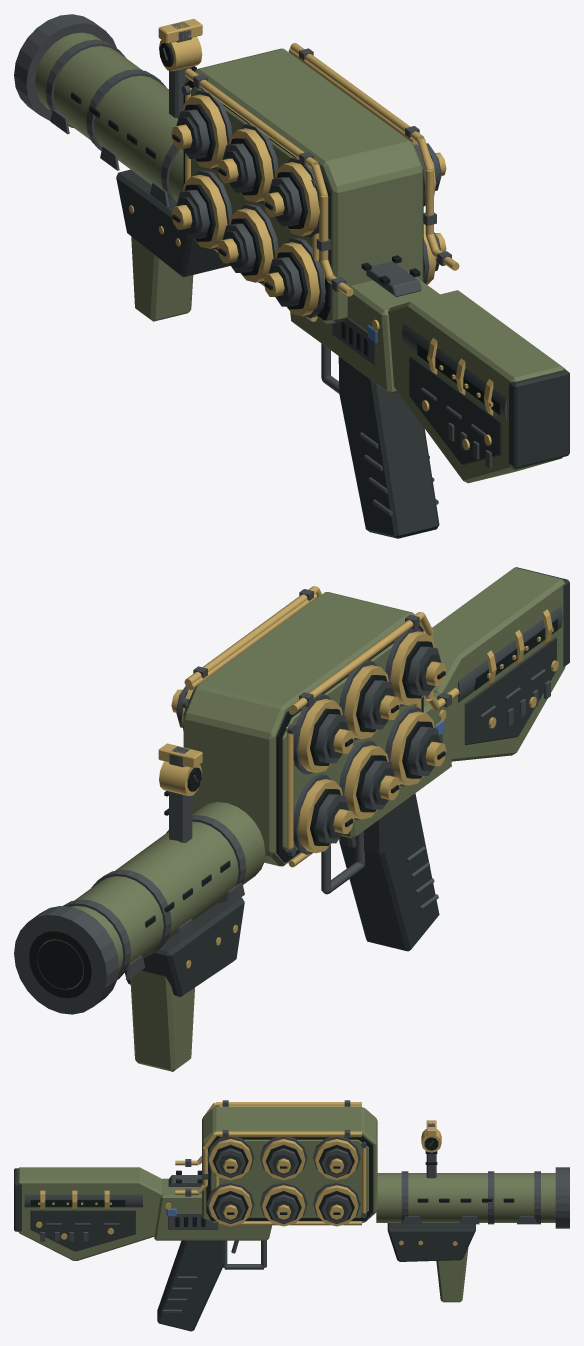
File: grenade_2.glb
The picture shows the model from 3 angles, top to bottom: view 1: azimuth 30°, elevation 25°; view 2: azimuth 150°, elevation 25°; view 3: azimuth 270°, elevation 25°; orthographic projection. The views are drawn at different scales.
Visible parts, largest first — view 1: Weapon_grenade_v1; view 2: Weapon_grenade_v1; view 3: Weapon_grenade_v1.
Boxes of the visible parts, x1,y1,x2,y2 form: Weapon_grenade_v1: (14,14,569,538); Weapon_grenade_v1: (14,567,569,1071); Weapon_grenade_v1: (14,1100,569,1331).
Bounding box in the file's own units: 0.162 × 0.3222 × 0.775.
